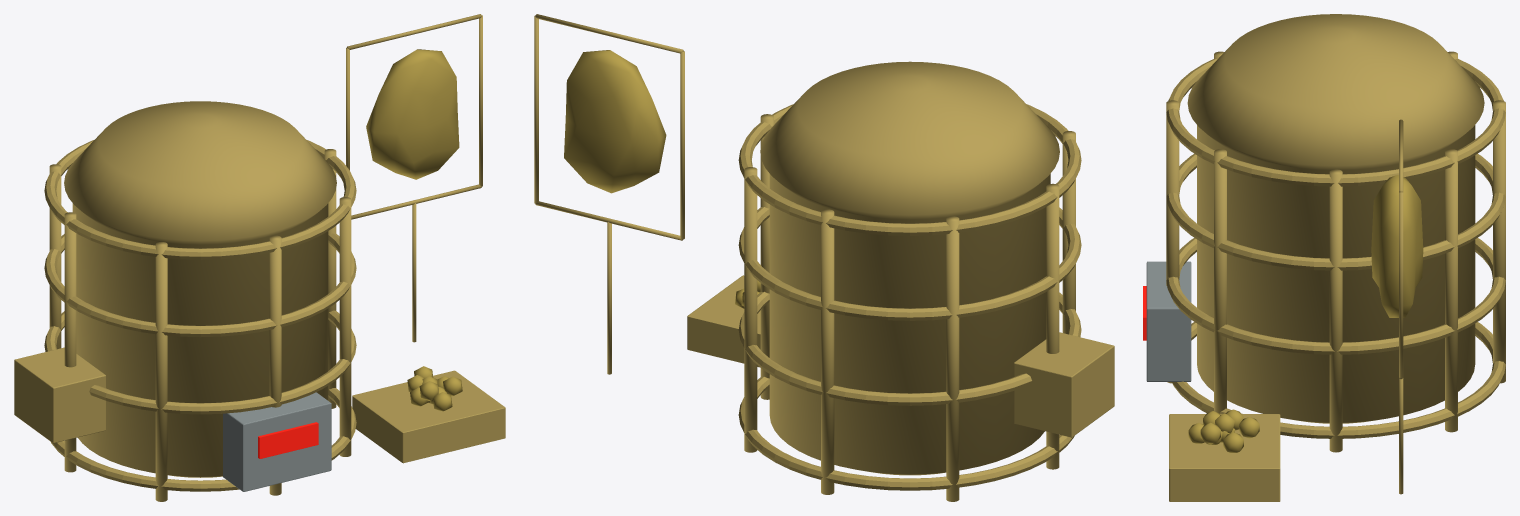
3 renders of one model, left to right at view 1: azimuth 30°, elevation 25°; view 2: azimuth 150°, elevation 25°; view 3: azimuth 270°, elevation 25°, orthographic. The views are drawn at different scales.
Parts seen in each view (by area): view 1: TI082 / rounded gold ore canister, TI082 / separate mineral specimen, TI082 / small sample tray, TI082 / front terminal, TI082 / side cargo block, TI082 / canister cage hoop.003, TI082 / canister cage hoop.002, TI082 / canister cage hoop.001, TI082 / canister protective upright.005, TI082 / canister protective upright.007, TI082 / canister cage hoop, TI082 / canister protective upright.006 (+8 smaller); view 2: TI082 / rounded gold ore canister, TI082 / separate mineral specimen, TI082 / side cargo block, TI082 / canister cage hoop.003, TI082 / canister cage hoop.002, TI082 / canister cage hoop, TI082 / canister cage hoop.001, TI082 / canister protective upright.003, TI082 / canister protective upright.002, TI082 / small sample tray, TI082 / canister protective upright.001, TI082 / canister protective upright.004 (+7 smaller); view 3: TI082 / rounded gold ore canister, TI082 / small sample tray, TI082 / canister cage hoop.003, TI082 / separate mineral specimen, TI082 / canister cage hoop.001, TI082 / front terminal, TI082 / canister cage hoop.002, TI082 / canister cage hoop, TI082 / canister protective upright, TI082 / canister protective upright.001, TI082 / canister protective upright.007, TI082 / canister protective upright.002 (+3 smaller).
Part boxes in pixels (x1,y1,x2,y2): TI082 / rounded gold ore canister: (64,101,336,477); TI082 / separate mineral specimen: (366,49,459,179); TI082 / small sample tray: (352,370,505,463); TI082 / front terminal: (223,392,331,491); TI082 / side cargo block: (14,347,105,443); TI082 / canister cage hoop.003: (44,140,356,259); TI082 / canister cage hoop.002: (44,233,356,337); TI082 / canister cage hoop.001: (44,310,356,414); TI082 / canister protective upright.005: (155,242,167,501); TI082 / canister protective upright.007: (339,197,351,456); TI082 / canister cage hoop: (51,388,356,491); TI082 / canister protective upright.006: (269,235,281,495); TI082 / rounded gold ore canister: (760,61,1059,475); TI082 / separate mineral specimen: (564,50,666,193); TI082 / side cargo block: (1014,332,1114,437); TI082 / canister cage hoop.003: (738,104,1081,235); TI082 / canister cage hoop.002: (738,207,1081,320); TI082 / canister cage hoop: (738,376,1074,490); TI082 / canister cage hoop.001: (738,291,1081,405); TI082 / canister protective upright.003: (946,216,959,501); TI082 / canister protective upright.002: (821,209,834,494); TI082 / small sample tray: (687,275,760,367); TI082 / canister protective upright.001: (744,167,757,452); TI082 / canister protective upright.004: (1046,183,1059,469); TI082 / rounded gold ore canister: (1187,14,1484,423); TI082 / small sample tray: (1169,414,1280,501); TI082 / canister cage hoop.003: (1166,59,1505,186); TI082 / separate mineral specimen: (1371,175,1423,317); TI082 / canister cage hoop.001: (1166,238,1505,354); TI082 / front terminal: (1146,261,1191,381); TI082 / canister cage hoop.002: (1166,153,1505,270); TI082 / canister cage hoop: (1172,322,1505,438); TI082 / canister protective upright: (1329,169,1342,452); TI082 / canister protective upright.001: (1445,149,1457,432); TI082 / canister protective upright.007: (1214,149,1226,412); TI082 / canister protective upright.002: (1493,100,1505,383).
Bounding box in the file's own units: 3.24 × 2.11 × 1.95.
